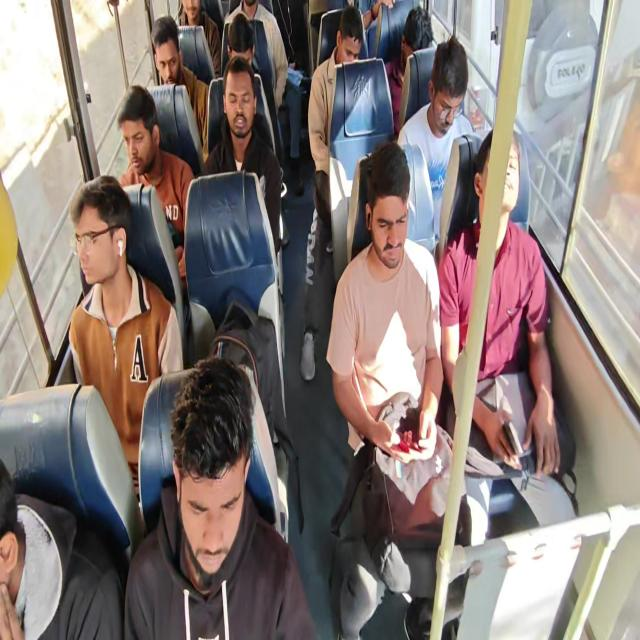person: (180, 424, 248, 582), (69, 188, 130, 280), (0, 480, 41, 600), (366, 192, 410, 272), (122, 94, 154, 188), (478, 157, 519, 224), (222, 84, 258, 155), (144, 34, 185, 89), (398, 12, 436, 71), (434, 71, 464, 130), (225, 29, 257, 78), (332, 27, 361, 72), (180, 0, 203, 34)
